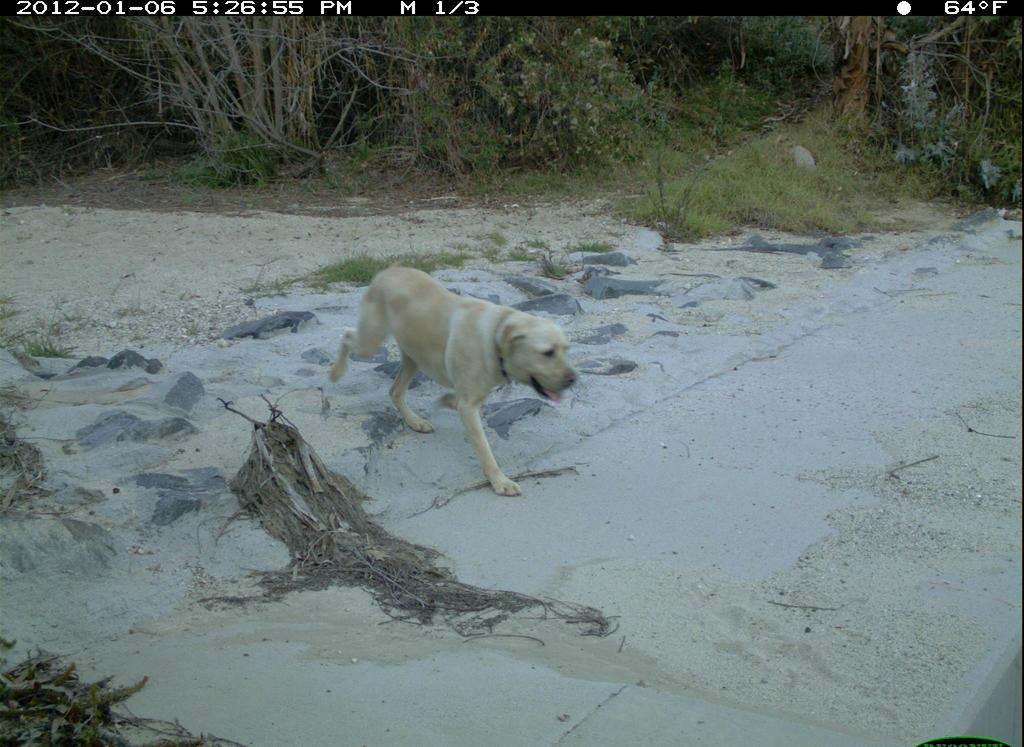dog: (328, 236, 573, 511)
